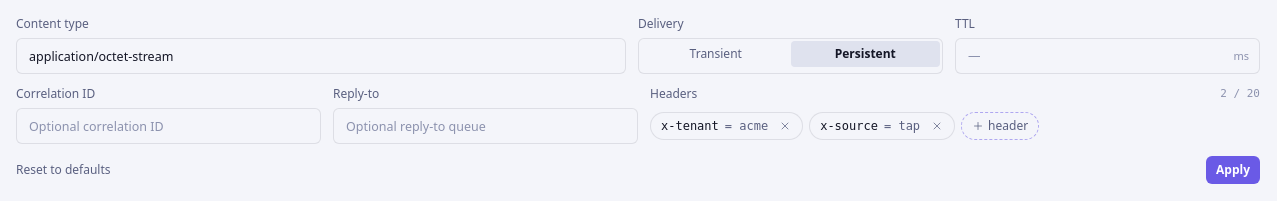
Test: headers › removes a header from its pill
Expected: the text "2 / 20" is shown, [1220, 86, 1260, 102]
Click the button named "Remove header x-tenant" at [785, 126], box [774, 115, 796, 137]
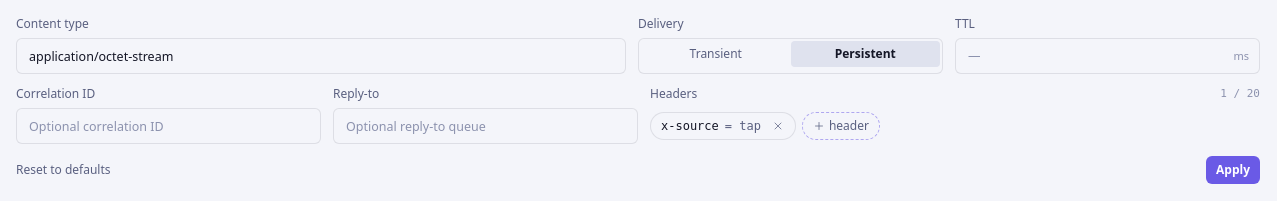
Result: the text "1 / 20" is shown at [1220, 86, 1260, 102]
Result: the text "x-tenant" is gone
